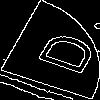D: (25, 25, 99, 78)
